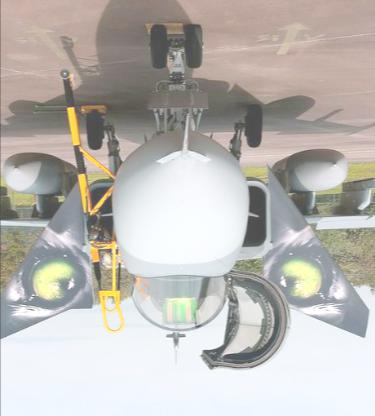JAS39: (0, 24, 374, 372)
